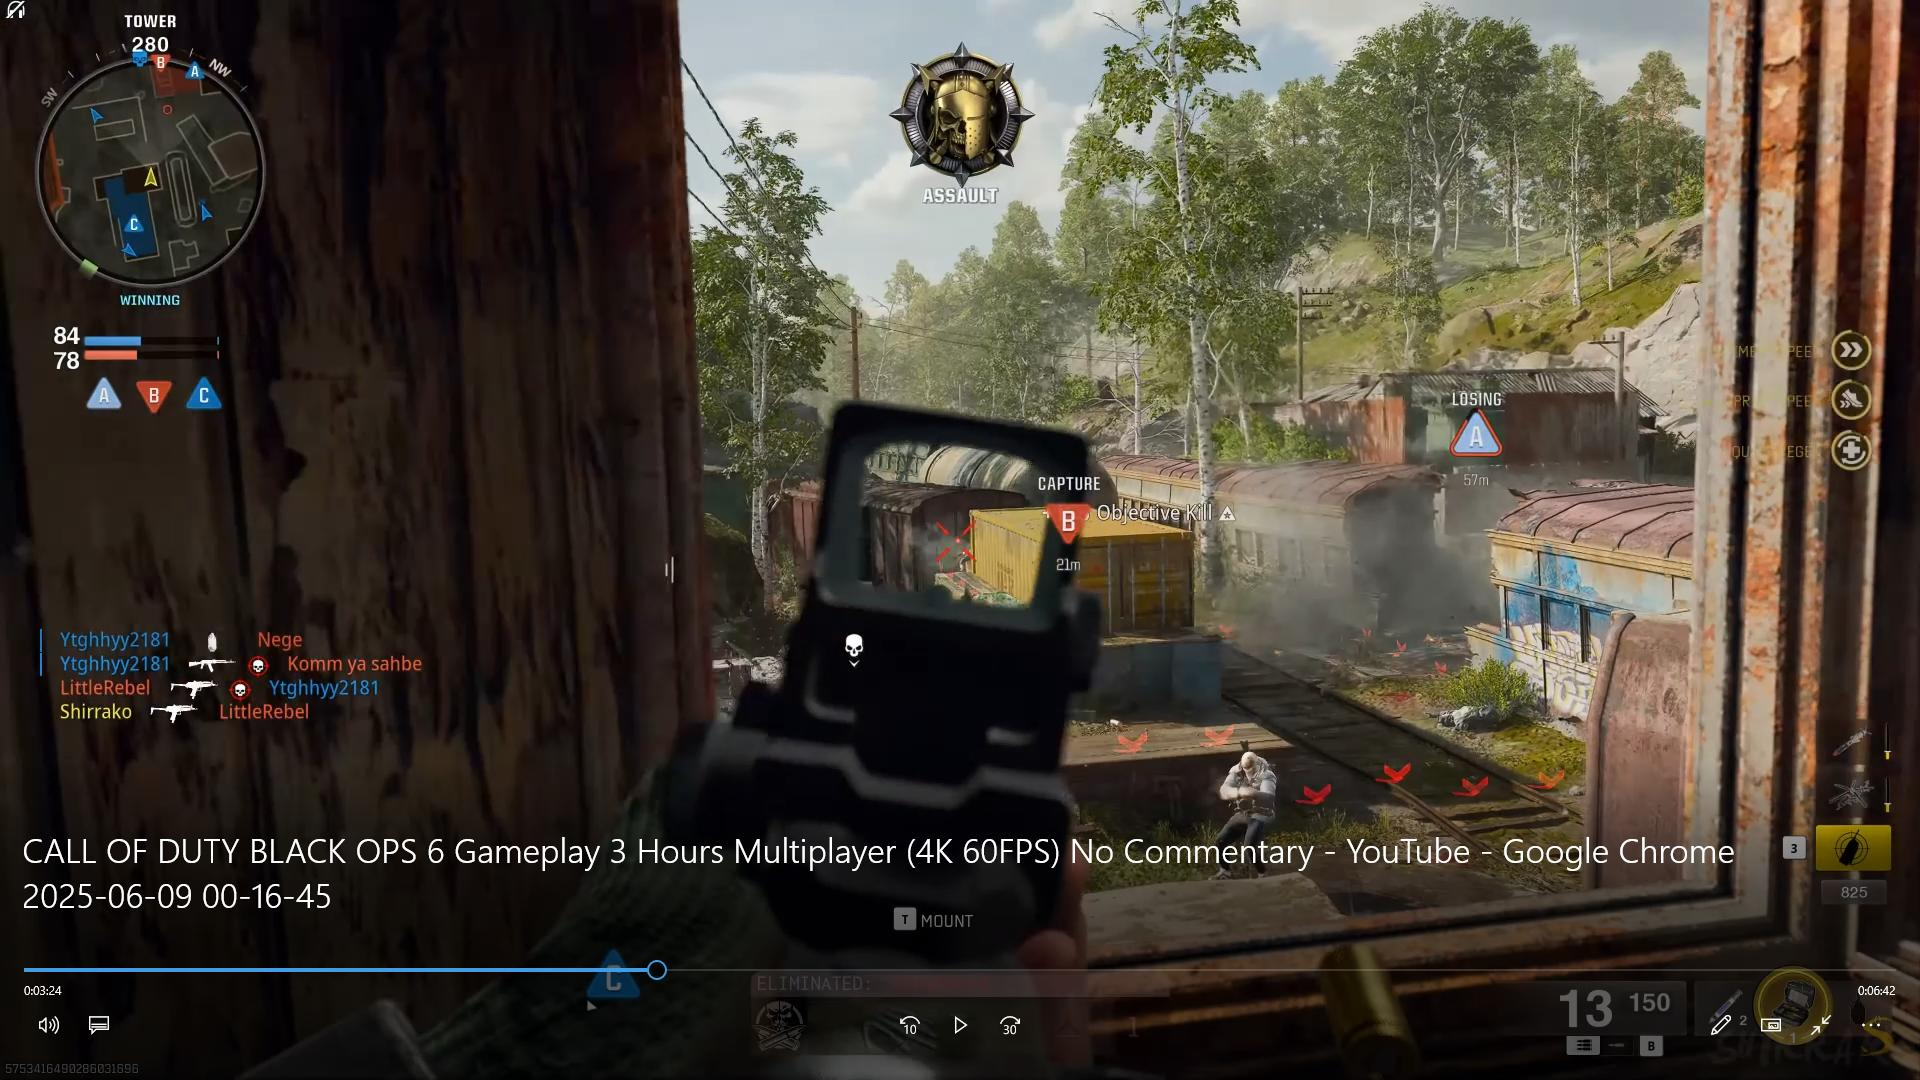Enemy: (1218, 752, 1283, 845)
